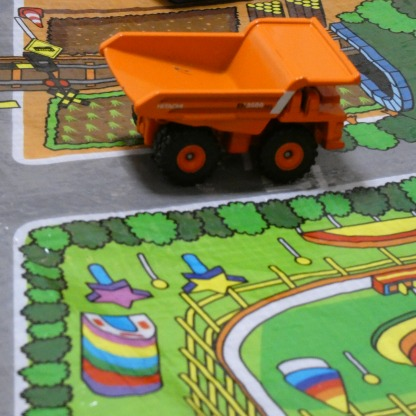car: (97, 18, 356, 183)
